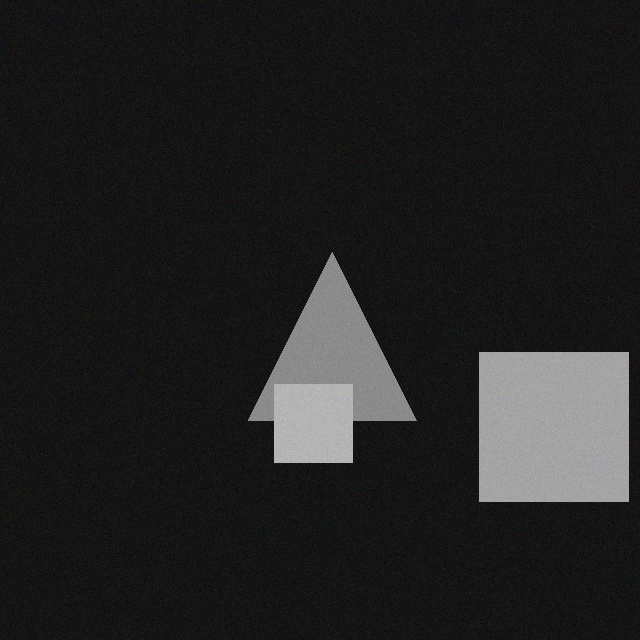square: (469, 340, 618, 489), (264, 372, 342, 450)
triangle: (238, 240, 406, 408)
